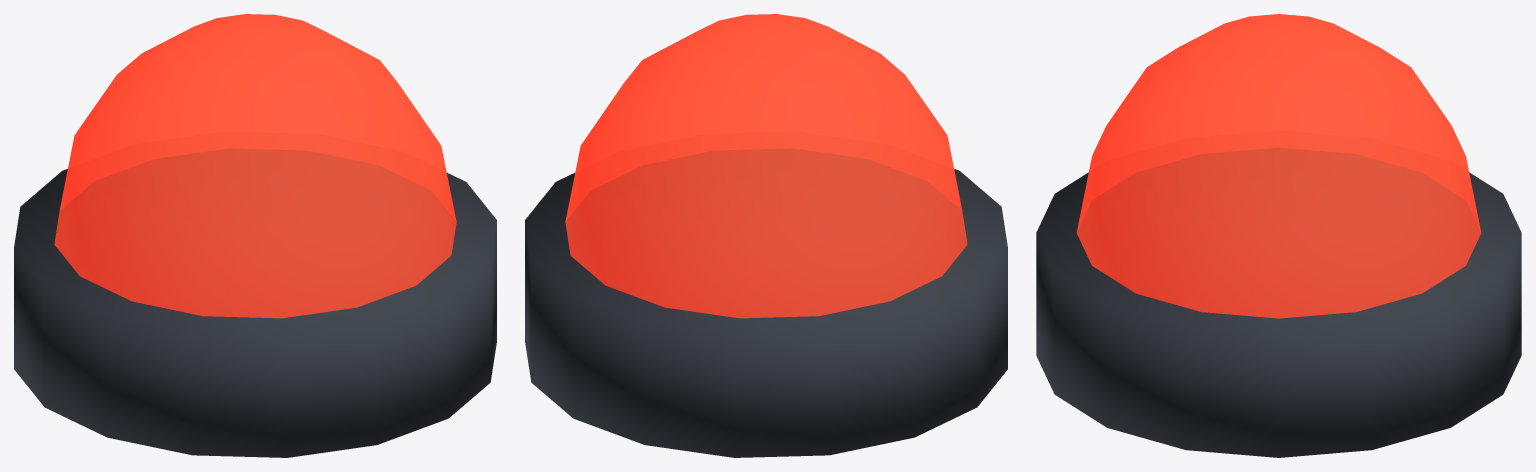
File: AlarmLight.fbx
3 views of the same model, side by side, from view 1: azimuth 30°, elevation 25°; view 2: azimuth 150°, elevation 25°; view 3: azimuth 270°, elevation 25° (orthographic).
Parts seen in each view (by area): view 1: Dome, Base.003; view 2: Dome, Base.003; view 3: Dome, Base.003.
Part boxes in pixels (x1,y1,x2,y2): Dome: (54, 14, 456, 318); Base.003: (14, 150, 496, 457); Dome: (565, 14, 967, 318); Base.003: (525, 149, 1007, 457); Dome: (1076, 14, 1481, 318); Base.003: (1036, 148, 1521, 457).
Bounding box in the file's own units: 0.18 × 0.165 × 0.18.
